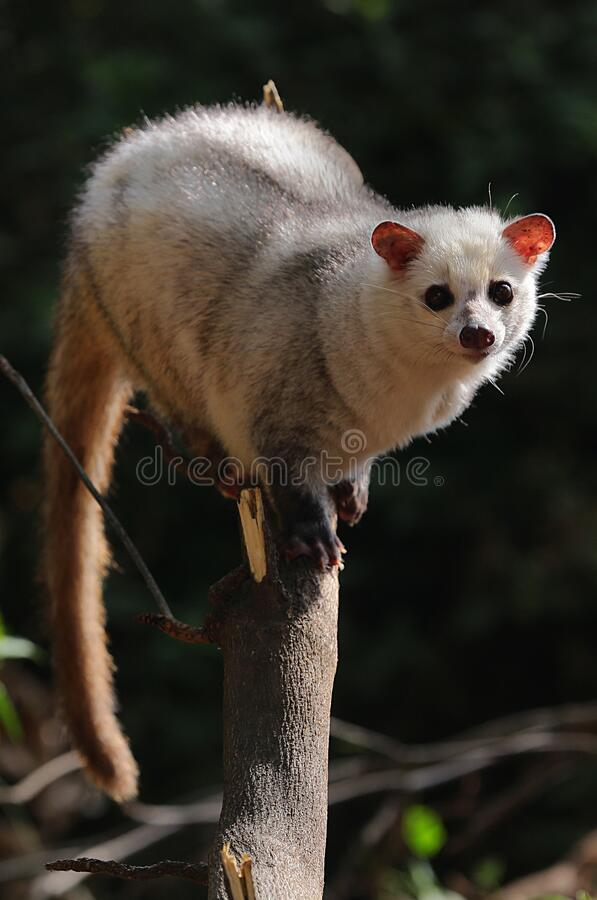Civet: (49, 85, 573, 537)
